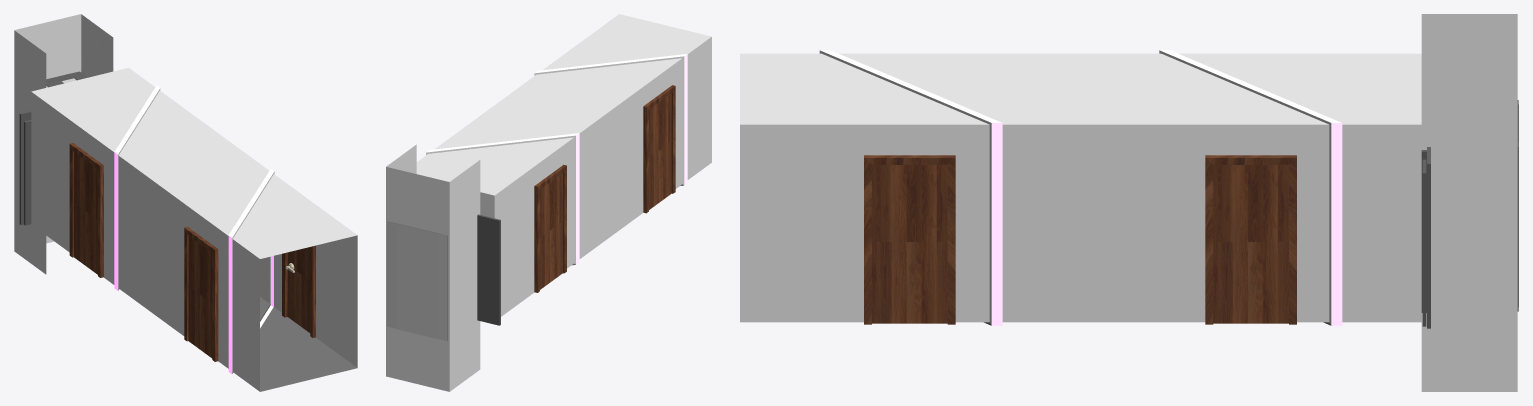
Rendered from Corridor.fbx.
The picture shows the model from 3 angles, left to right: view 1: azimuth 30°, elevation 25°; view 2: azimuth 150°, elevation 25°; view 3: azimuth 270°, elevation 25°; orthographic projection. The views are drawn at different scales.
Visible parts, largest first — view 1: Corridor_Middle, Corridor_End, Door.001, Door.005, Door.004, DoorFrame.001, DoorFrame.003, DoorFrame.002, Elevator_Outside_LeftDoor, Elevator_Inside_LeftDoor, Elevador_Inside; view 2: Corridor_End, Corridor_Middle, Elevador_Inside, Elevator_Inside_LeftDoor, Door.001, Door.005, DoorFrame.001, DoorFrame.003; view 3: Corridor_End, Corridor_Middle, Door.004, Door.006, DoorFrame.002, DoorFrame.004, Elevator_Outside_RightDoor, Elevator_Inside_RightDoor.
Boxes of the visible parts, left/top/right/bottom form: Corridor_Middle: left=145, top=152, right=357, bottom=391; Corridor_End: left=14, top=14, right=243, bottom=307; Door.001: left=188, top=236, right=212, bottom=358; Door.005: left=74, top=151, right=97, bottom=274; Door.004: left=285, top=247, right=310, bottom=332; DoorFrame.001: left=184, top=227, right=218, bottom=361; DoorFrame.003: left=69, top=143, right=103, bottom=277; DoorFrame.002: left=282, top=245, right=315, bottom=337; Elevator_Outside_LeftDoor: left=24, top=120, right=31, bottom=225; Elevator_Inside_LeftDoor: left=19, top=111, right=31, bottom=224; Elevador_Inside: left=46, top=71, right=87, bottom=87; Corridor_End: left=386, top=93, right=603, bottom=391; Corridor_Middle: left=511, top=14, right=711, bottom=241; Elevador_Inside: left=387, top=221, right=447, bottom=341; Elevator_Inside_LeftDoor: left=477, top=214, right=500, bottom=325; Door.001: left=649, top=93, right=671, bottom=209; Door.005: left=540, top=173, right=562, bottom=289; DoorFrame.001: left=643, top=85, right=675, bottom=213; DoorFrame.003: left=534, top=164, right=566, bottom=292; Corridor_End: left=1079, top=14, right=1517, bottom=391; Corridor_Middle: left=740, top=50, right=1081, bottom=325; Door.004: left=872, top=165, right=947, bottom=323; Door.006: left=1213, top=165, right=1288, bottom=323; DoorFrame.002: left=864, top=155, right=955, bottom=324; DoorFrame.004: left=1205, top=155, right=1296, bottom=324; Elevator_Outside_RightDoor: left=1422, top=159, right=1426, bottom=326; Elevator_Inside_RightDoor: left=1427, top=147, right=1430, bottom=328.
Size of the model in its own units: 234 by 433 by 928.
Materials: 9 (1 with a texture image).
